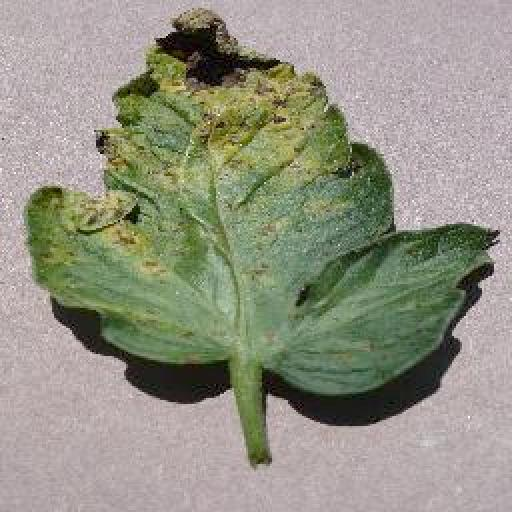disease_tomato: (22, 4, 498, 398)
